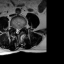CCS_normal: (16, 26, 18, 35)
LFS_stenosis: (20, 25, 22, 31)
LLS_normal: (18, 26, 20, 34)
RFS_stenosis: (13, 24, 15, 31)
RLS_normal: (15, 26, 16, 34)
